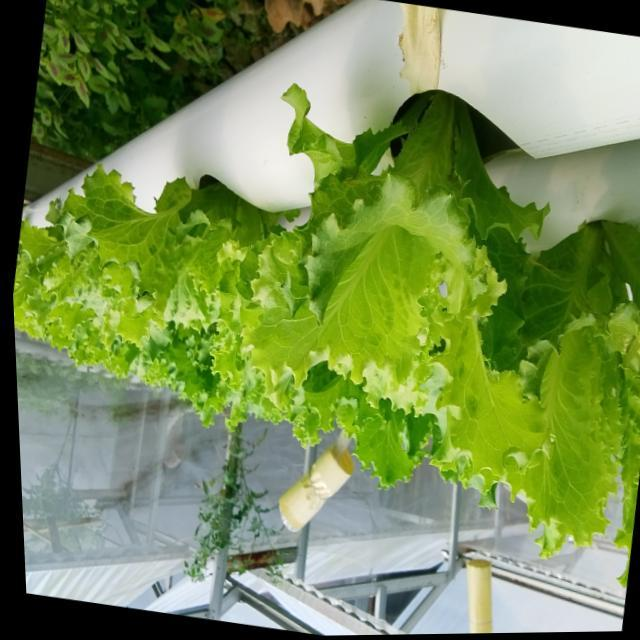Baby: (242, 86, 571, 481)
